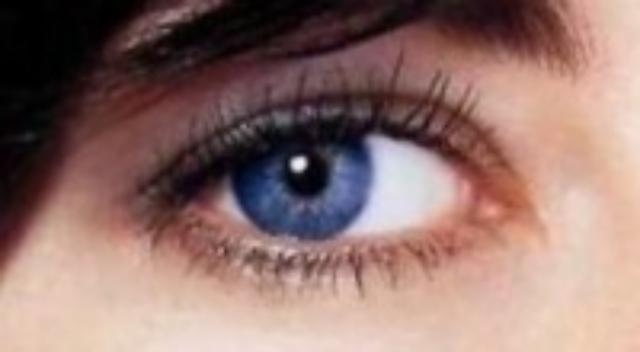eye: (225, 109, 377, 241)
